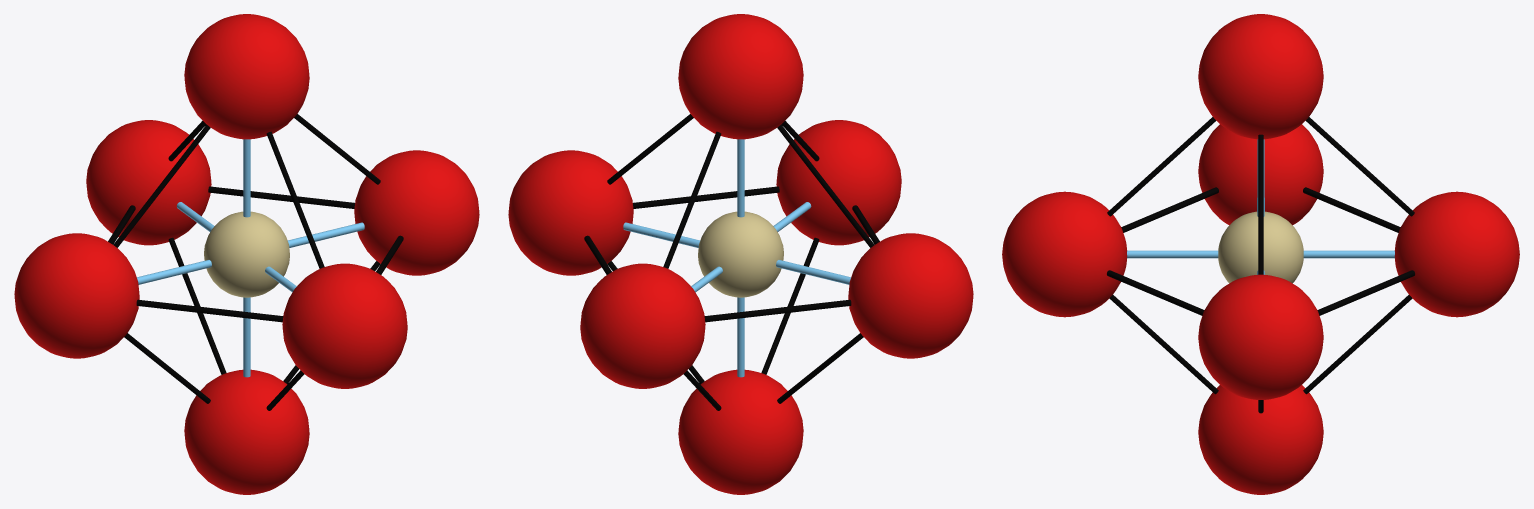
The picture shows the model from 3 angles, left to right: view 1: azimuth 30°, elevation 25°; view 2: azimuth 150°, elevation 25°; view 3: azimuth 270°, elevation 25°; orthographic projection.
Visible parts, largest first — view 1: Sphere333, Sphere330, Sphere325, Sphere329, Sphere331, Sphere332, Sphere362, 图形008, Line005, Line003, Line004; view 2: Sphere332, Sphere330, Sphere325, Sphere329, Sphere331, Sphere333, Sphere362, 图形008, Line005, Line003, Line004; view 3: Sphere331, Sphere325, Sphere333, Sphere332, Sphere329, Sphere330, Sphere362, Line004, Line005, 图形008, Line003.
Boxes of the visible parts, x1=… form: Sphere333: x1=282, y1=263, x2=407, y2=388; Sphere330: x1=14, y1=233, x2=139, y2=358; Sphere325: x1=184, y1=14, x2=309, y2=139; Sphere329: x1=184, y1=369, x2=309, y2=494; Sphere331: x1=354, y1=150, x2=479, y2=275; Sphere332: x1=86, y1=120, x2=211, y2=245; Sphere362: x1=204, y1=211, x2=289, y2=297; 图形008: x1=137, y1=139, x2=364, y2=377; Line005: x1=108, y1=186, x2=403, y2=322; Line003: x1=113, y1=114, x2=380, y2=403; Line004: x1=168, y1=120, x2=324, y2=410; Sphere332: x1=580, y1=263, x2=705, y2=388; Sphere330: x1=848, y1=233, x2=973, y2=358; Sphere325: x1=678, y1=14, x2=803, y2=139; Sphere329: x1=678, y1=369, x2=803, y2=494; Sphere331: x1=508, y1=150, x2=633, y2=275; Sphere333: x1=776, y1=120, x2=901, y2=245; Sphere362: x1=698, y1=211, x2=783, y2=297; 图形008: x1=623, y1=139, x2=850, y2=377; Line005: x1=584, y1=186, x2=879, y2=322; Line003: x1=607, y1=114, x2=874, y2=403; Line004: x1=663, y1=120, x2=819, y2=410; Sphere331: x1=1198, y1=274, x2=1323, y2=399; Sphere325: x1=1198, y1=14, x2=1323, y2=139; Sphere333: x1=1002, y1=191, x2=1127, y2=317; Sphere332: x1=1394, y1=191, x2=1519, y2=317; Sphere329: x1=1198, y1=385, x2=1323, y2=494; Sphere330: x1=1198, y1=124, x2=1323, y2=225; Sphere362: x1=1218, y1=211, x2=1303, y2=283; Line004: x1=1107, y1=117, x2=1414, y2=394; Line005: x1=1107, y1=187, x2=1414, y2=315; 图形008: x1=1127, y1=139, x2=1394, y2=274; Line003: x1=1258, y1=134, x2=1263, y2=413.
Bounding box in the file's own units: 66 × 66 × 66.
Materials: 1 (1 with a texture image).
